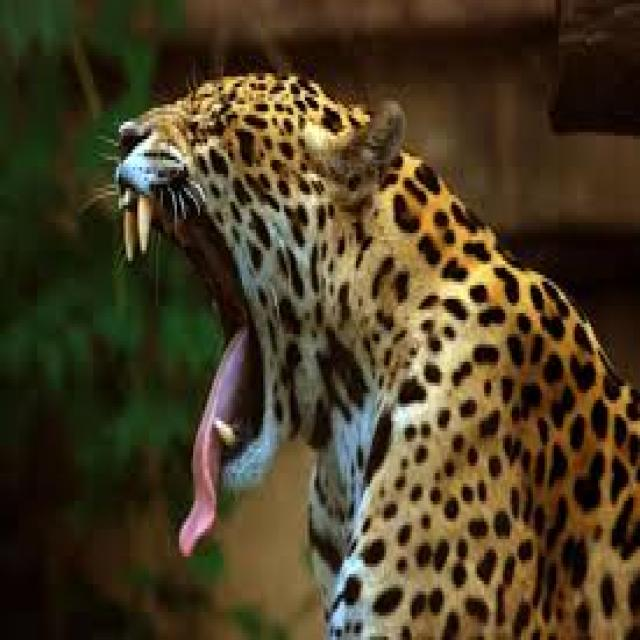Jaguar: (109, 66, 640, 640)
